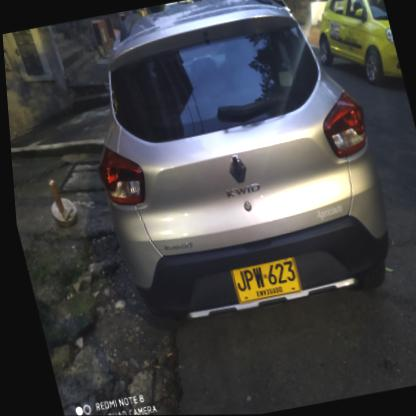placa: (219, 252, 303, 310)
